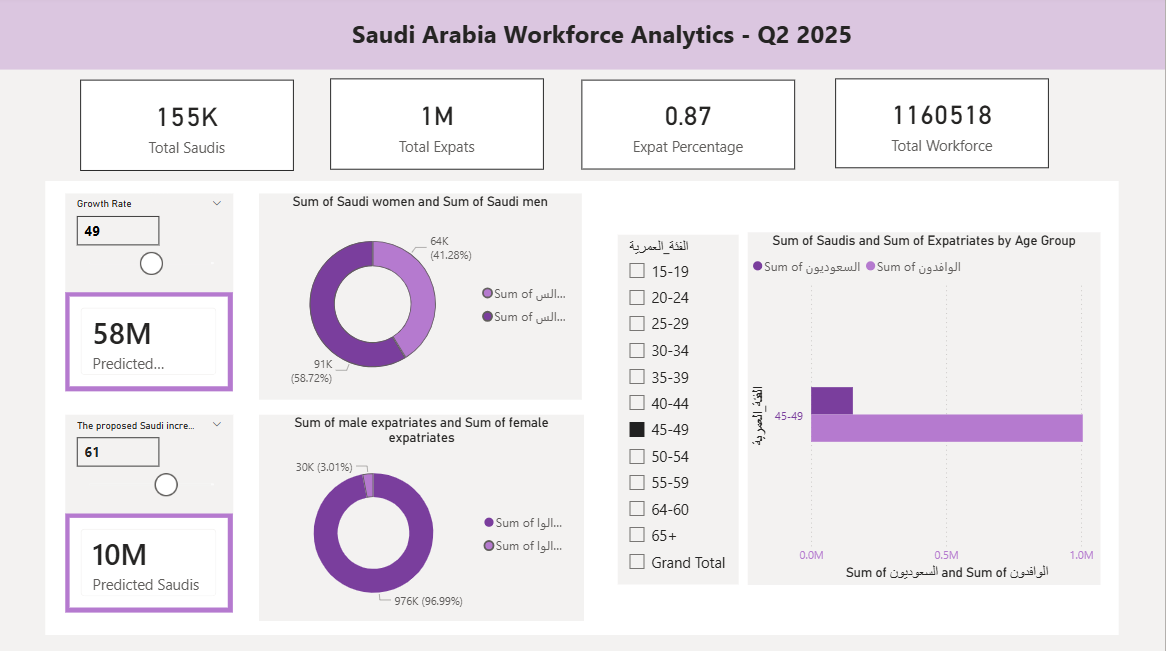

The dashboard page shown, as its layout file describes it:
{"tool":"powerbi","page":{"name":"Page 1","canvas":[1280,720],"ordinal":0},"visuals":[{"type":"card","fields":{"Values":["Fact_Workers_Stats.Total Saudis"]},"box":[89.2,91.9,234.6,100.2],"z":0},{"type":"card","fields":{"Values":["Fact_Workers_Stats.Total Expats"]},"box":[363.6,90.6,234.6,100.2],"z":1000},{"type":"card","fields":{"Values":["Fact_Workers_Stats.Expat Percentage"]},"box":[639.5,91.9,234.6,98.8],"z":2000},{"type":"card","fields":{"Values":["Fact_Workers_Stats.Total Workforce"]},"box":[918,90.6,234.6,98.8],"z":3000},{"type":"textbox","box":[50.8,203.1,1178.7,498.1],"z":4000},{"type":"donutChart","title":"Sum of male expatriates and Sum of female expatriates","fields":{"Y":["Sum(Fact_Workers_Stats.الوافدون_الرجال)","Sum(Fact_Workers_Stats.الوافدون_النساء)"]},"box":[285.4,459.7,356.8,226.4],"z":5000},{"type":"donutChart","title":"Sum of Saudi women and Sum of Saudi men","fields":{"Y":["Sum(Fact_Workers_Stats.السعوديون_النساء)","Sum(Fact_Workers_Stats.السعوديون_الرجال)"]},"box":[285.4,216.8,354,226.4],"z":6000},{"type":"clusteredBarChart","title":"Sum of Saudis and Sum of Expatriates by Age Group","fields":{"Category":["Fact_Workers_Stats.الفئة_العمرية"],"Y":["Sum(Fact_Workers_Stats.السعوديون)","Sum(Fact_Workers_Stats.الوافدون)"]},"box":[822,259.3,387,387],"z":7000},{"type":"slicer","fields":{"Values":["Fact_Workers_Stats.الفئة_العمرية"]},"box":[679.2,262.1,133.1,384.2],"z":8000},{"type":"textbox","box":[0,0,1280.3,81],"z":9000},{"type":"slicer","fields":{"Values":["Growth Rate.Growth Rate"]},"box":[72.7,216.8,183.9,108.4],"z":10000},{"type":"cardVisual","fields":{"Data":["Fact_Workers_Stats.$$Predicted Workforce"]},"box":[72.7,325.2,183.9,108.4],"z":10001},{"type":"slicer","fields":{"Values":["The proposed Saudi increase.The proposed Saudi increase"]},"box":[72.7,459.7,183.9,108.4],"z":10002},{"type":"cardVisual","fields":{"Data":["Fact_Workers_Stats.Predicted Saudis"]},"box":[72.7,568.1,183.9,108.4],"z":10003}]}

Visuals, with their boxes in screenshot pixels (x1, y1, x2, y2), scaled from the page's 1280x720 canvas onto the 1166x651 screenshot:
card - Fact_Workers_Stats.Total Saudis: bbox(81, 83, 295, 174)
card - Fact_Workers_Stats.Total Expats: bbox(331, 82, 545, 173)
card - Fact_Workers_Stats.Expat Percentage: bbox(583, 83, 796, 172)
card - Fact_Workers_Stats.Total Workforce: bbox(836, 82, 1050, 171)
textbox: bbox(46, 184, 1120, 634)
"Sum of male expatriates and Sum of female expatriates" donutChart: bbox(260, 416, 585, 620)
"Sum of Saudi women and Sum of Saudi men" donutChart: bbox(260, 196, 582, 401)
"Sum of Saudis and Sum of Expatriates by Age Group" clusteredBarChart: bbox(749, 234, 1101, 584)
slicer - Fact_Workers_Stats.الفئة_العمرية: bbox(619, 237, 740, 584)
textbox: bbox(0, 0, 1165, 73)
slicer - Growth Rate.Growth Rate: bbox(66, 196, 234, 294)
cardVisual - Fact_Workers_Stats.$$Predicted Workforce: bbox(66, 294, 234, 392)
slicer - The proposed Saudi increase.The proposed Saudi increase: bbox(66, 416, 234, 514)
cardVisual - Fact_Workers_Stats.Predicted Saudis: bbox(66, 514, 234, 612)
